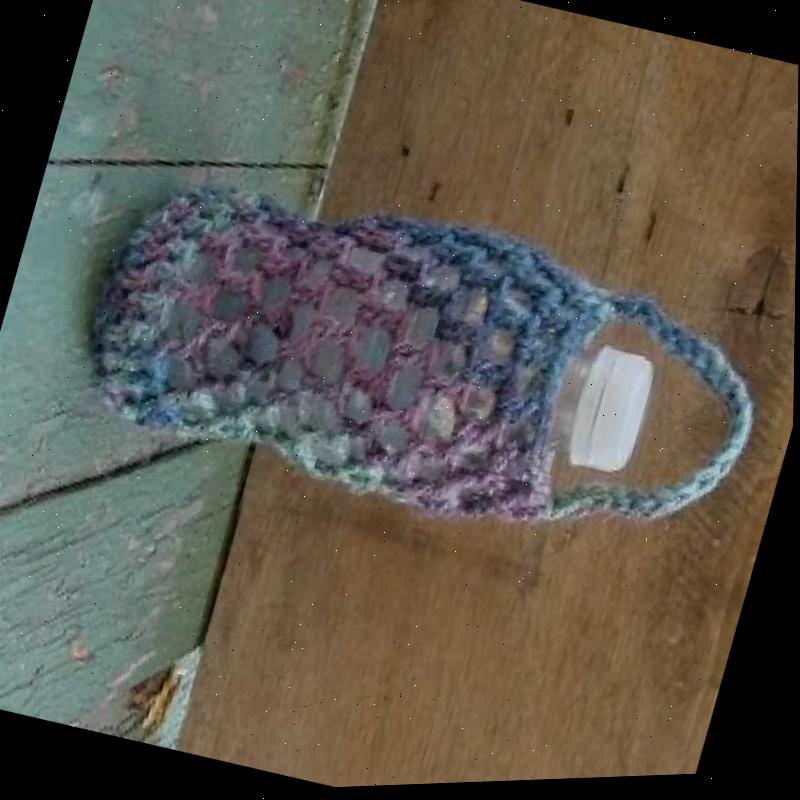botella: (543, 332, 665, 491)
